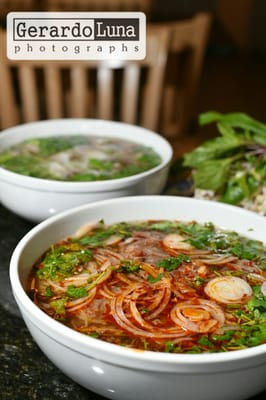sushi: (10, 195, 265, 400), (1, 118, 173, 223)
